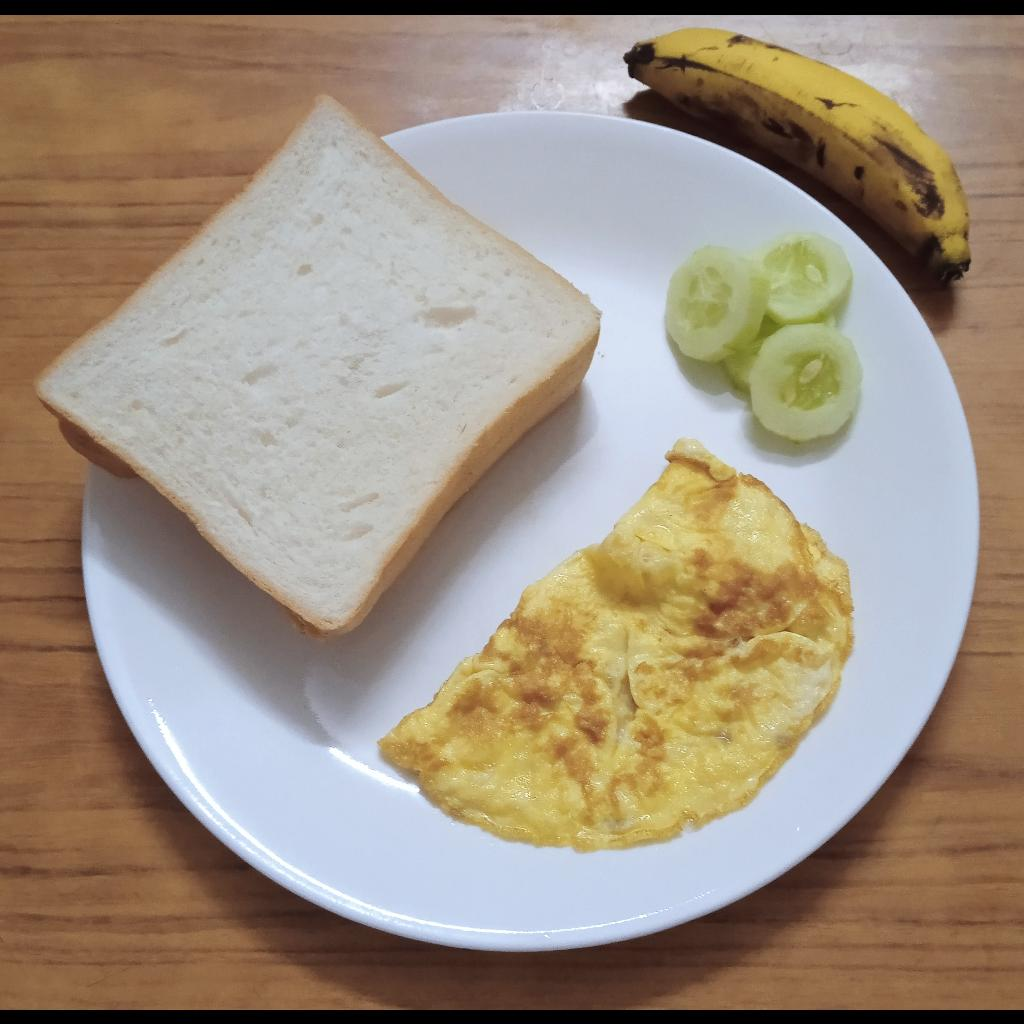banana: (620, 23, 972, 281)
bread: (33, 94, 604, 644)
cucumber: (666, 229, 864, 441)
egg-poached: (377, 434, 855, 854)
